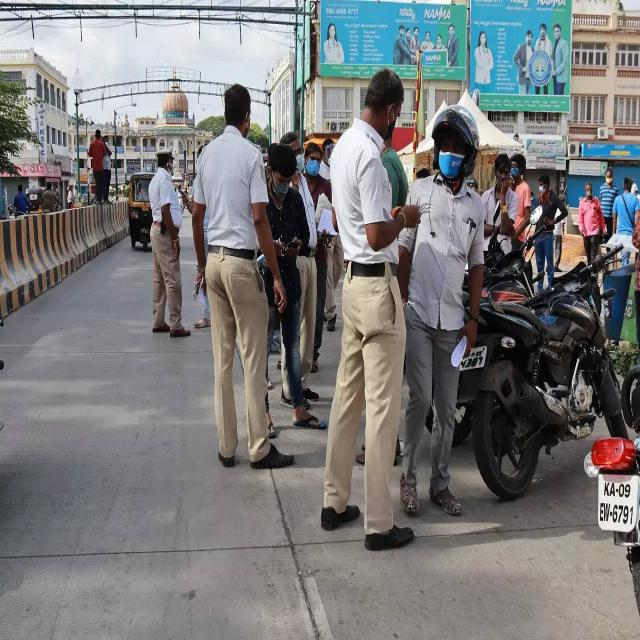autorickshaw: (129, 173, 152, 251)
motorcycle: (474, 244, 628, 500)
